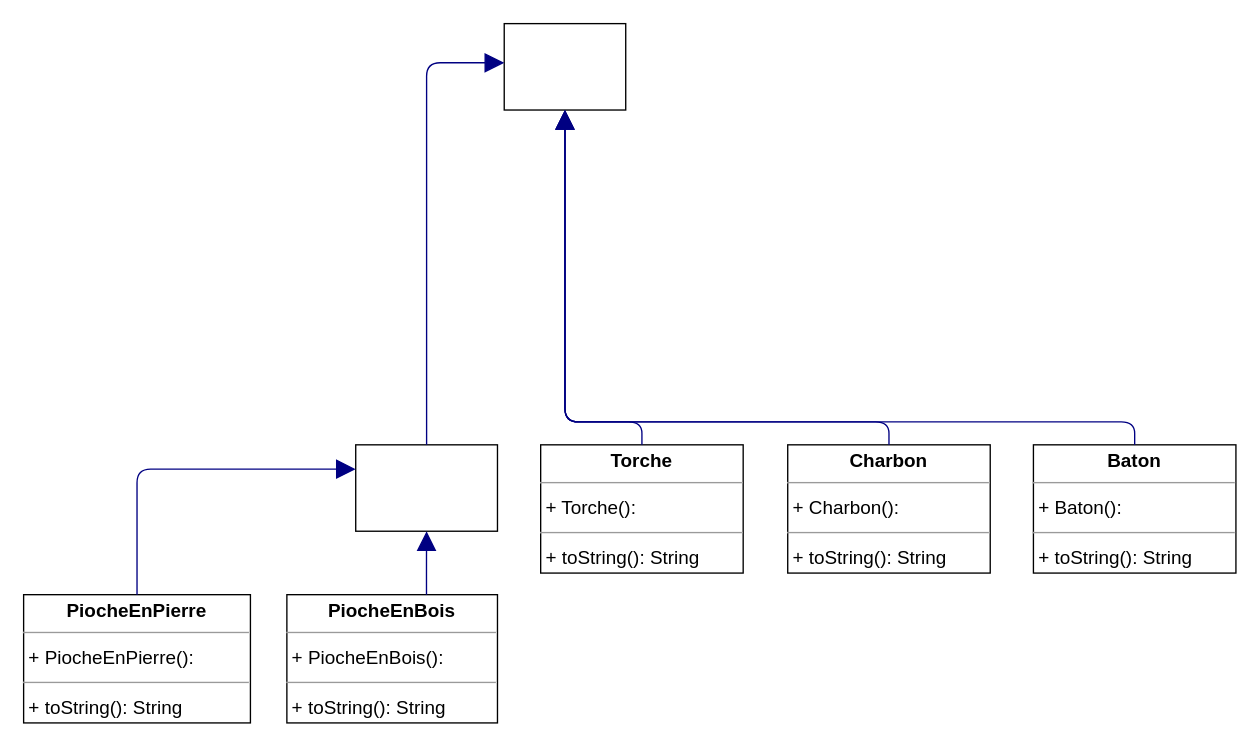
Image size: 1260x747. Some labels were removed from this diagram. Here are the shapes that lost their labels. From the top down, the centre of each, then its label:
point (564, 66): Item + Item():
point (425, 487): Pioche + Pioche():
